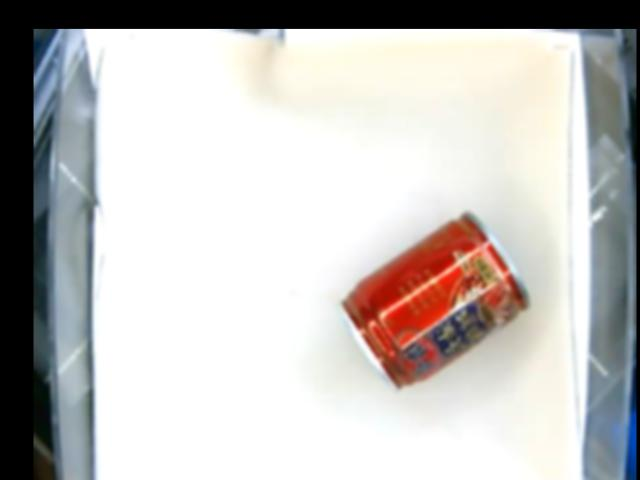Bottle: (336, 211, 532, 389)
